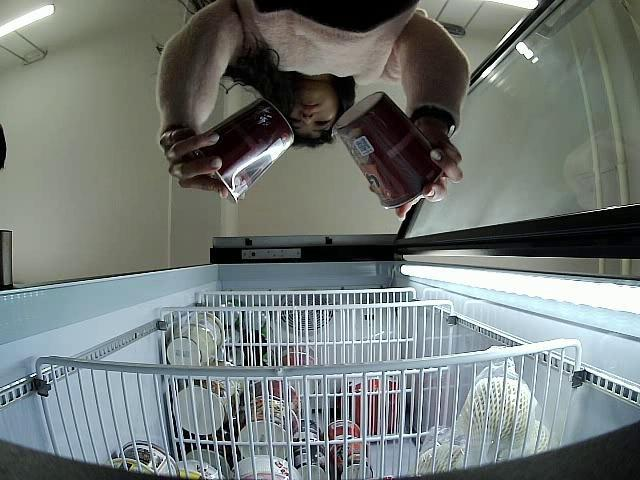06_nuguri_S: (334, 92, 444, 210), (190, 100, 294, 203)
